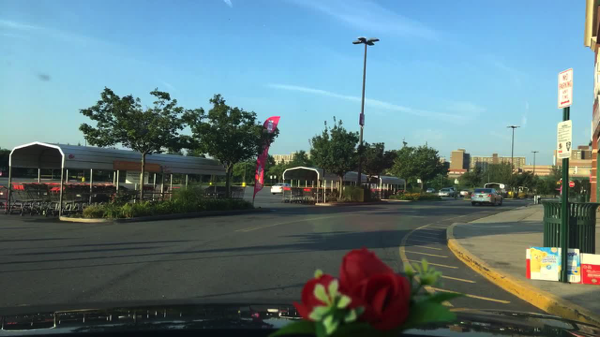car: (469, 188, 504, 207), (271, 183, 292, 194), (438, 188, 454, 198), (457, 189, 470, 200), (425, 186, 435, 195)
traffic sign: (555, 69, 573, 109), (554, 121, 571, 159), (359, 113, 367, 128), (565, 181, 576, 188)
